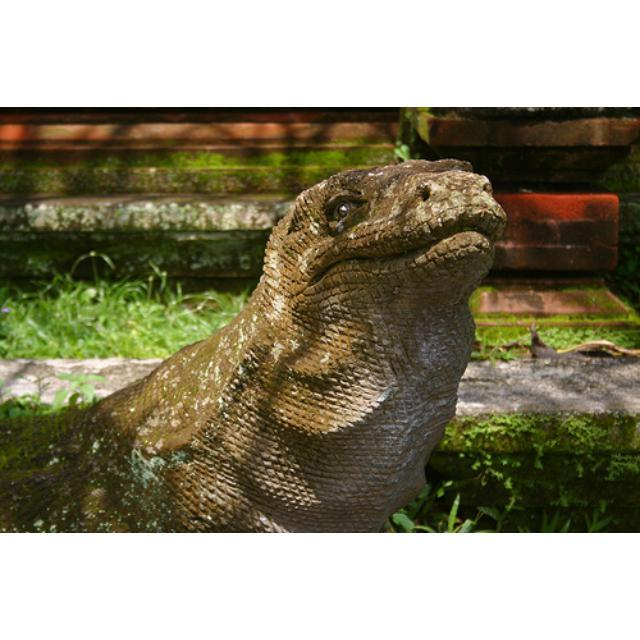KomodoDragon: (0, 158, 506, 531)
